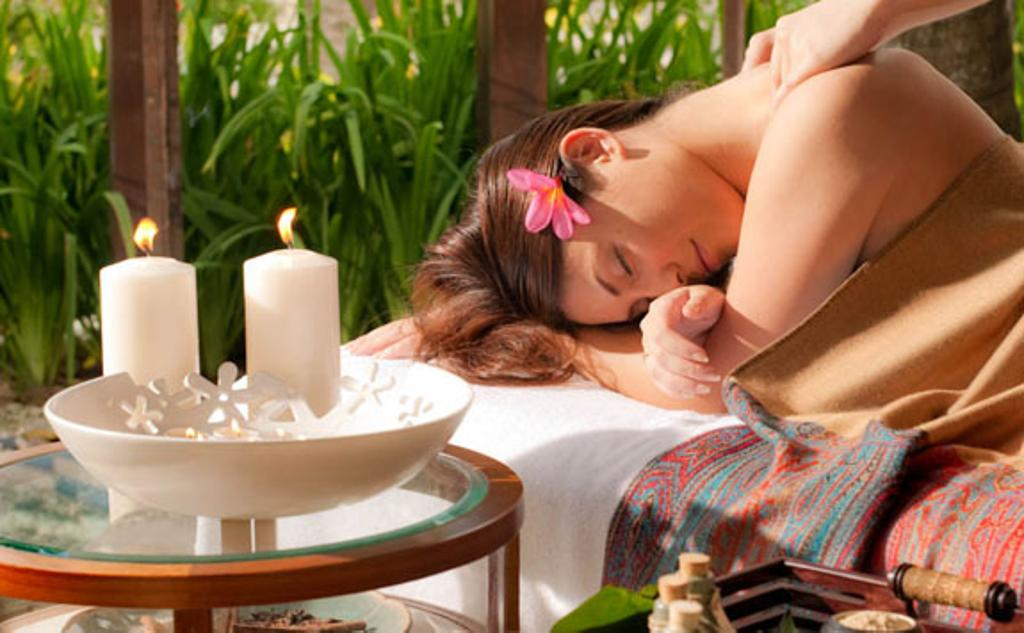face: (554, 212, 750, 324)
